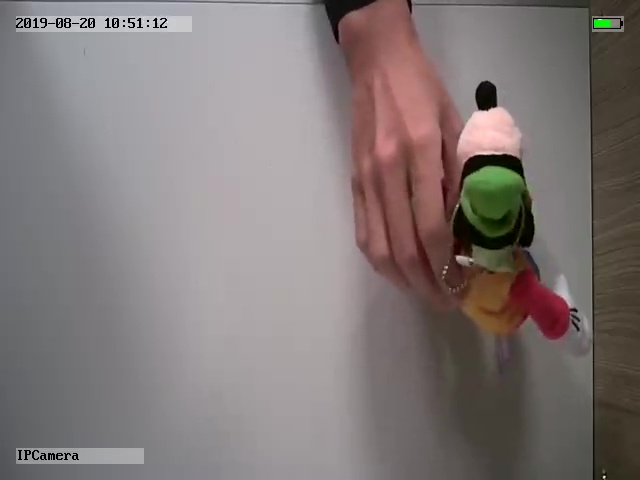goofy: (439, 81, 592, 355)
